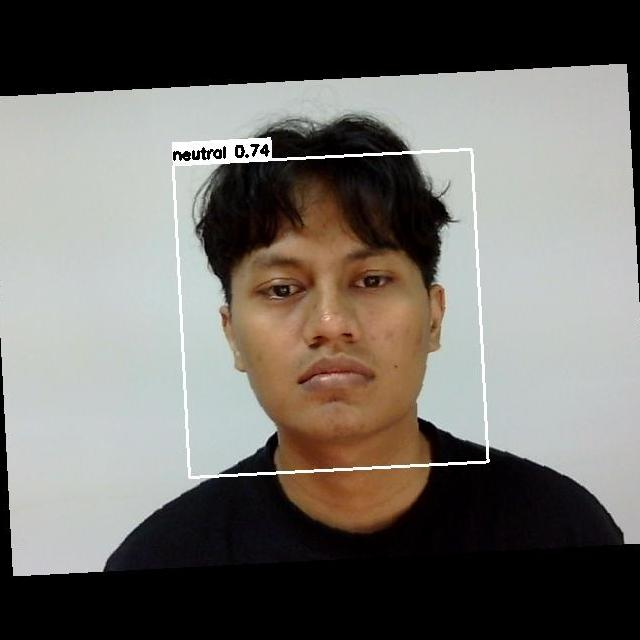Natural: (235, 233, 442, 407)
